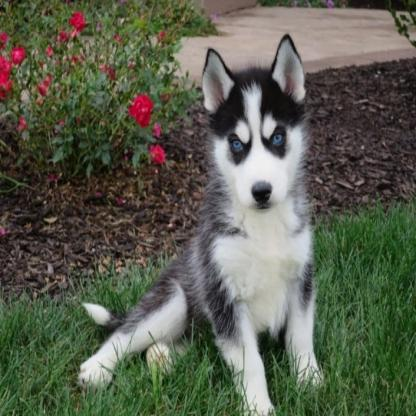husky: (76, 30, 326, 411)
